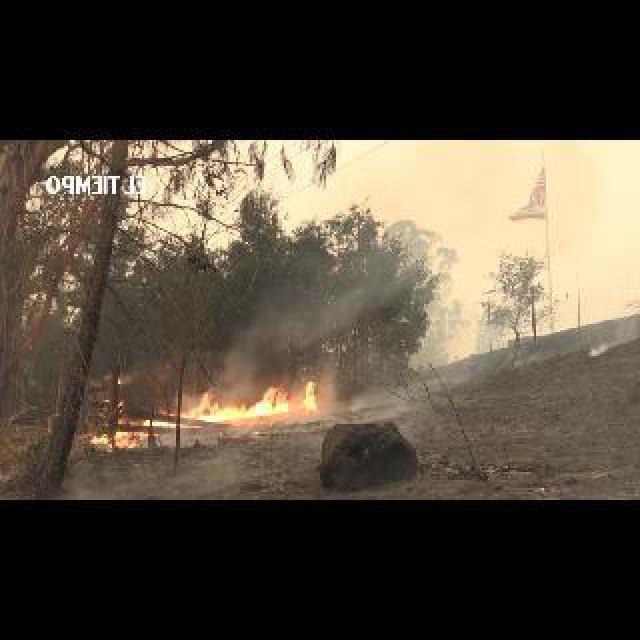Fire: (184, 382, 320, 420), (92, 432, 146, 450)
Smoke: (207, 238, 382, 380)
